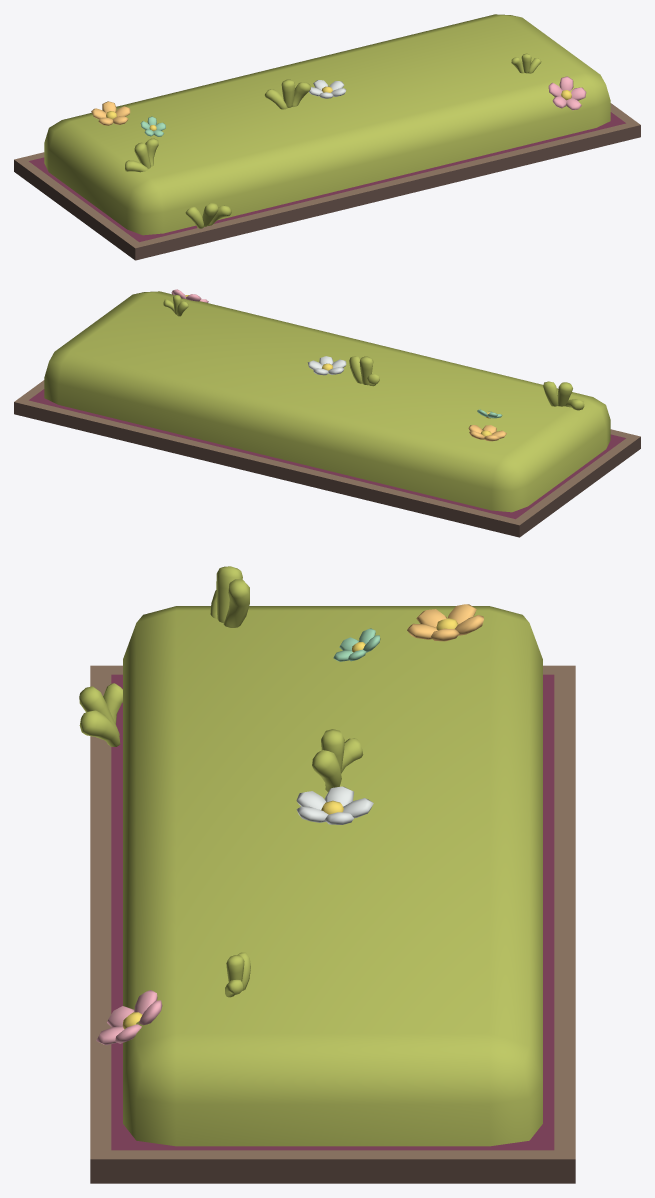
The model's file is Grass.fbx.
The picture shows the model from 3 angles, top to bottom: view 1: azimuth 30°, elevation 25°; view 2: azimuth 150°, elevation 25°; view 3: azimuth 270°, elevation 25°; orthographic projection. The views are drawn at different scales.
Visible parts, largest first — view 1: Grass; view 2: Grass; view 3: Grass.
Boxes of the visible parts, x1,y1,x2,y2 form: Grass: [14, 14, 640, 260]; Grass: [14, 289, 640, 537]; Grass: [79, 566, 575, 1183].
Bounding box in the file's own units: 271 × 42.88 × 115.
